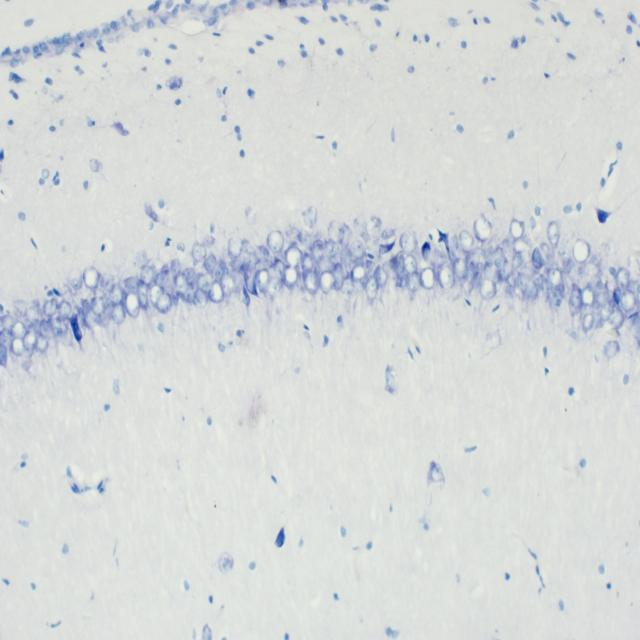neuron: (556, 245, 574, 274), (48, 311, 68, 337), (473, 216, 492, 241), (438, 266, 456, 292), (572, 238, 590, 264), (82, 266, 100, 291), (352, 264, 368, 292), (284, 245, 303, 268), (39, 319, 55, 346), (155, 269, 179, 287), (100, 297, 115, 325), (220, 272, 235, 300), (615, 266, 630, 294), (196, 270, 214, 293), (208, 280, 225, 304), (430, 245, 447, 269), (566, 258, 583, 282), (126, 291, 140, 319), (267, 230, 284, 253), (400, 230, 417, 253), (136, 280, 149, 310), (255, 268, 270, 294), (340, 248, 355, 274), (303, 270, 319, 294), (320, 270, 336, 294), (268, 264, 282, 291), (480, 278, 497, 300), (302, 206, 318, 229), (328, 220, 344, 243), (608, 306, 624, 329), (174, 272, 189, 296), (228, 235, 243, 259), (459, 229, 474, 253), (483, 262, 501, 282), (140, 264, 156, 286), (420, 267, 436, 289), (621, 291, 637, 313), (547, 220, 560, 247), (150, 284, 164, 309), (365, 275, 379, 300), (531, 247, 546, 270), (108, 286, 125, 306), (156, 294, 173, 314), (25, 301, 39, 325), (111, 304, 127, 325), (193, 288, 209, 309), (244, 273, 258, 297), (402, 254, 418, 275), (452, 258, 468, 279), (502, 237, 516, 261), (68, 268, 83, 290), (570, 284, 583, 309), (351, 238, 365, 261), (42, 296, 58, 316), (100, 273, 116, 293), (283, 266, 299, 286), (511, 250, 527, 270), (353, 216, 368, 237), (0, 328, 14, 350), (23, 330, 37, 352), (90, 295, 104, 317), (332, 263, 343, 291), (374, 265, 388, 287), (241, 250, 258, 268), (181, 266, 196, 286), (471, 248, 486, 268), (487, 232, 502, 252), (585, 256, 600, 276), (599, 302, 614, 322), (85, 308, 99, 329), (211, 261, 225, 282), (312, 240, 324, 264), (316, 256, 334, 272), (229, 255, 244, 274), (58, 299, 72, 319), (298, 228, 312, 248), (383, 260, 397, 280), (510, 220, 524, 240), (338, 225, 350, 248), (36, 332, 49, 353), (1, 312, 14, 333), (286, 226, 302, 243), (11, 321, 26, 339), (324, 240, 339, 258), (604, 340, 619, 358), (506, 270, 520, 289), (548, 267, 562, 286), (184, 280, 195, 304), (11, 337, 24, 357), (60, 282, 73, 302), (408, 271, 421, 291), (525, 280, 538, 300), (582, 286, 595, 306), (594, 289, 609, 306), (449, 235, 460, 258), (192, 242, 206, 260), (341, 276, 355, 294), (499, 262, 513, 280), (256, 245, 269, 264), (582, 312, 594, 332), (532, 270, 544, 290), (124, 275, 137, 293), (302, 252, 315, 270), (393, 261, 405, 280), (468, 271, 480, 290), (462, 276, 473, 296), (274, 257, 284, 278), (80, 297, 91, 316), (203, 255, 216, 271), (606, 290, 618, 307), (0, 343, 8, 367), (171, 257, 181, 276), (202, 234, 215, 248), (160, 263, 170, 281), (494, 255, 507, 268), (542, 242, 550, 262), (381, 227, 394, 239), (193, 257, 207, 268), (514, 284, 524, 298), (175, 240, 186, 252)
